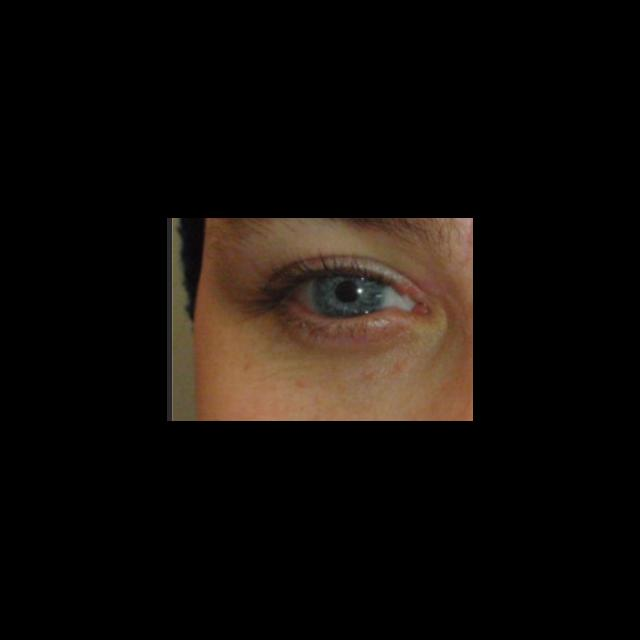eye: (293, 275, 409, 320)
iris: (313, 277, 383, 317)
